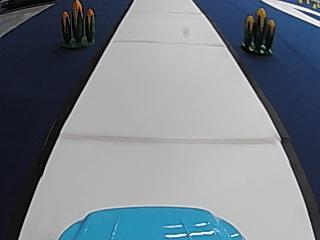corn: (54, 2, 101, 50), (238, 7, 279, 56)
